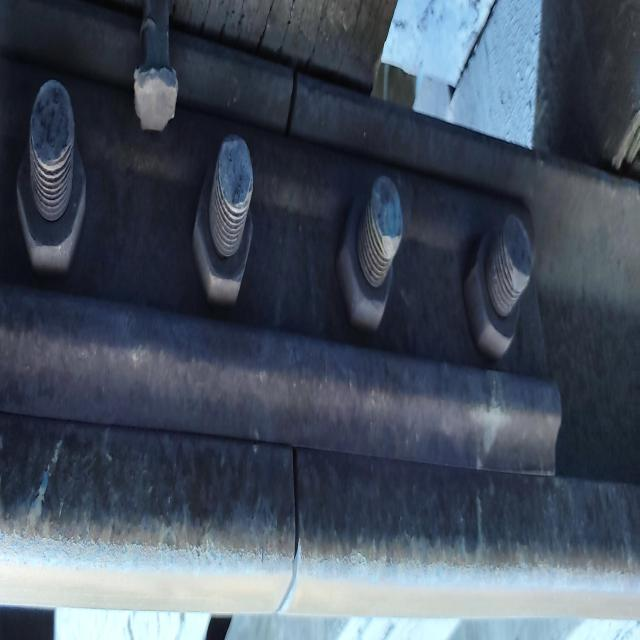Good Joint: (5, 72, 561, 467)
